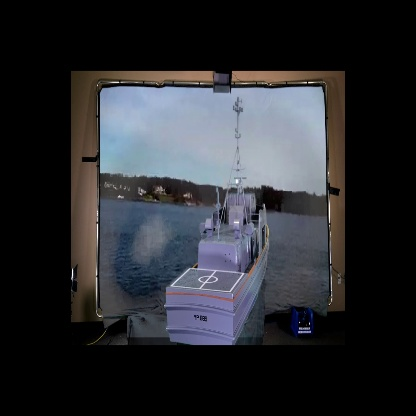YP689: (163, 98, 273, 345)
